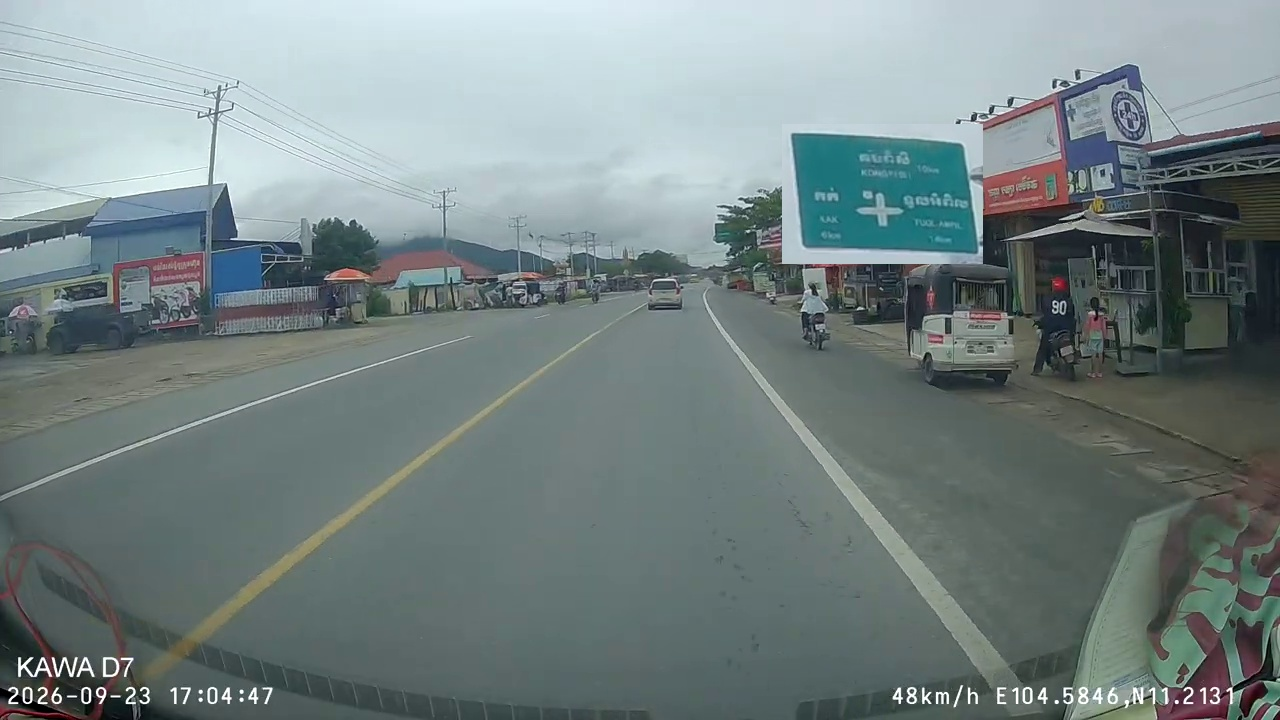direction_sign: (782, 124, 983, 264)
